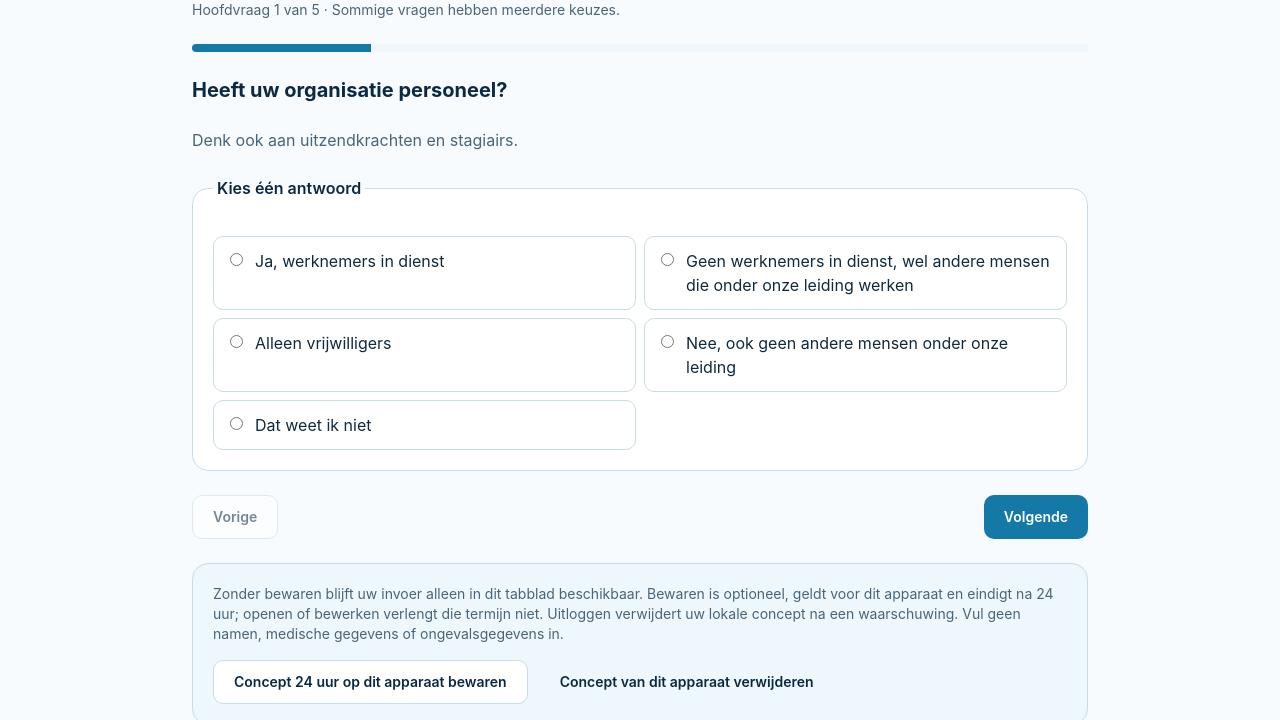
Scenario: Compliance herstel en gebruikersregie › blijft bruikbaar met geblokkeerde browseropslag
The image size is (1280, 720).
Click the radio button labelled "Ja, werknemers in dienst". click: coordinates (236, 260)
box: [230,253,243,266]
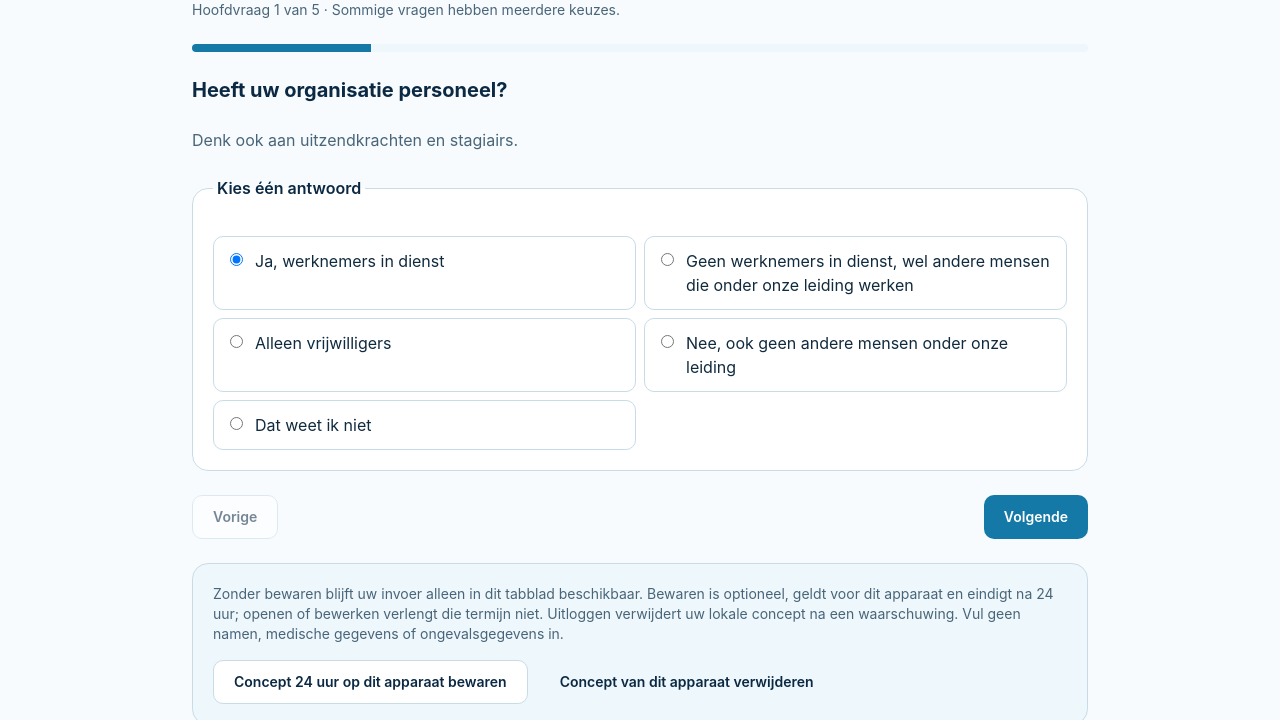
Click the button "Concept 24 uur op dit apparaat bewaren". click: coordinates (370, 682)
box: [213,660,528,704]
(page scrolled)
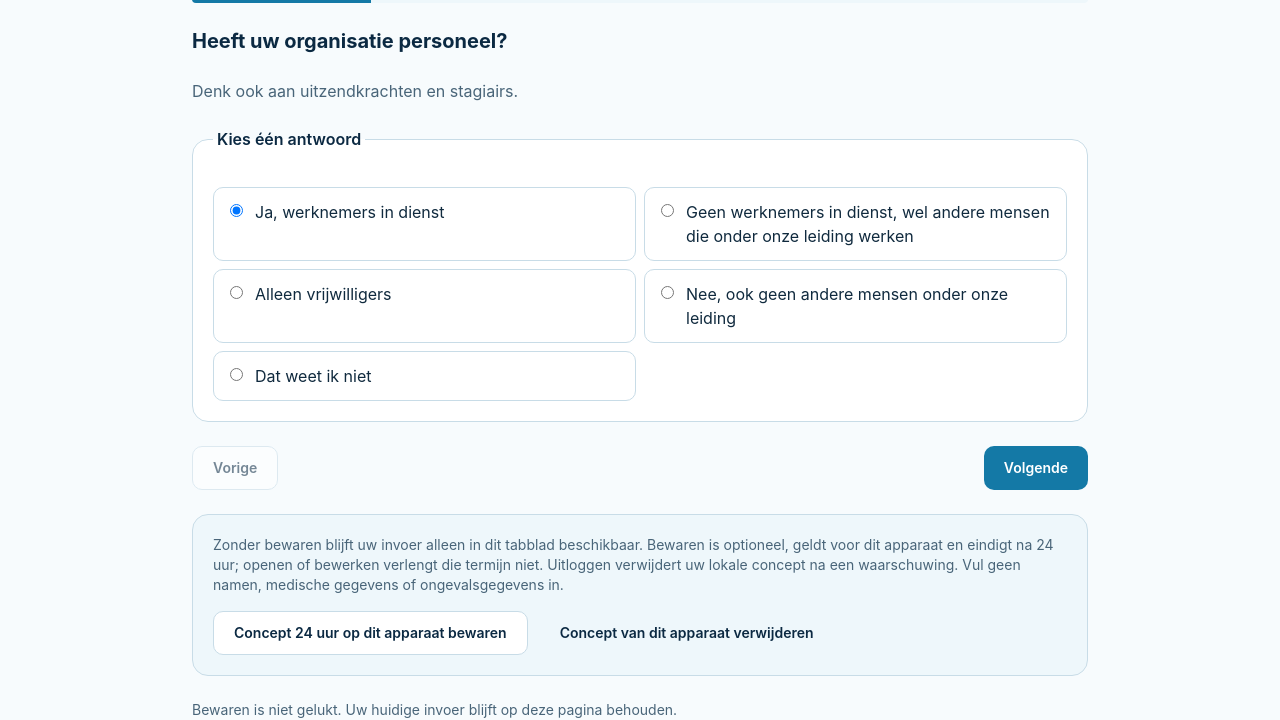
Check: the message shows "Bewaren is niet gelukt", box [192,701,677,718]
